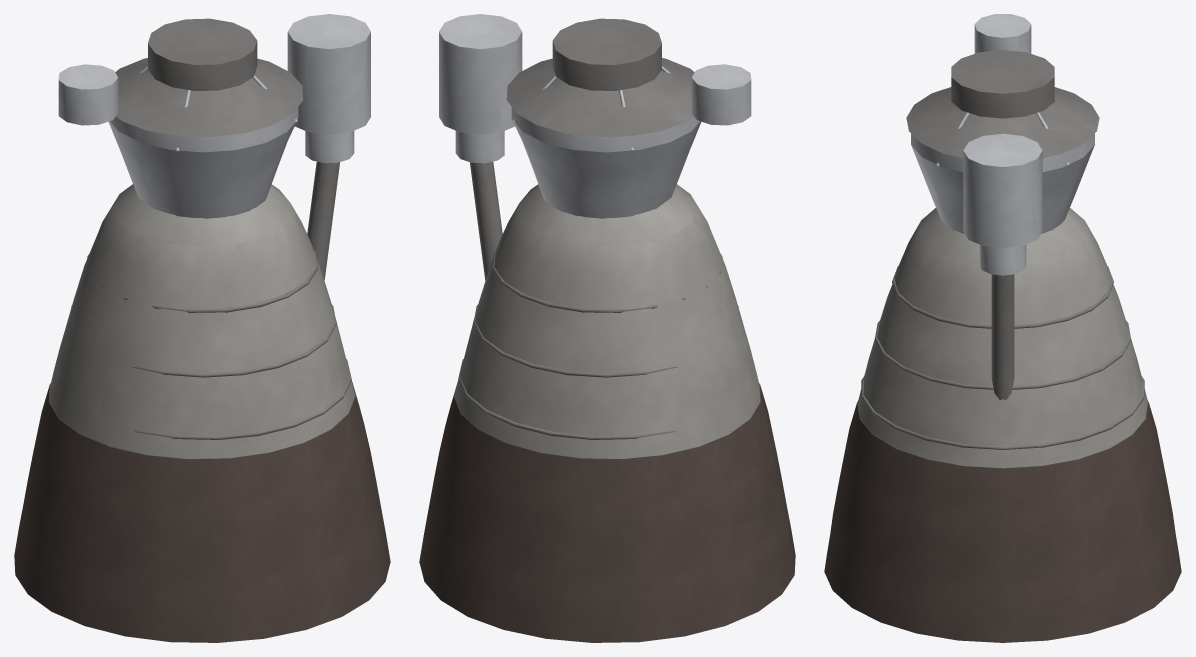
Rendered from prop18_heavy_kerolox.glb.
3 views of the same model, side by side, from view 1: azimuth 30°, elevation 25°; view 2: azimuth 150°, elevation 25°; view 3: azimuth 270°, elevation 25° (orthographic). The views are drawn at different scales.
Visible parts, largest first — view 1: nozzle_ext, bell, chamber, turbopump, injector_dome, mount, heat_exchanger, tube_wall_bands, exhaust_manifold; view 2: nozzle_ext, bell, chamber, turbopump, injector_dome, mount, heat_exchanger, tube_wall_bands, exhaust_manifold; view 3: nozzle_ext, bell, turbopump, injector_dome, mount, chamber, tube_wall_bands, exhaust_manifold, heat_exchanger.
Part boxes in pixels (x1,y1,x2,y2): nozzle_ext: [14, 380, 390, 642]; bell: [49, 184, 355, 458]; chamber: [108, 107, 298, 218]; turbopump: [287, 14, 370, 163]; injector_dome: [115, 58, 303, 136]; mount: [148, 18, 257, 90]; heat_exchanger: [58, 64, 118, 125]; tube_wall_bands: [53, 250, 351, 439]; exhaust_manifold: [307, 161, 339, 280]; nozzle_ext: [419, 380, 795, 642]; bell: [454, 184, 760, 458]; chamber: [511, 107, 701, 218]; turbopump: [439, 14, 522, 163]; injector_dome: [506, 58, 694, 136]; mount: [552, 18, 661, 90]; heat_exchanger: [691, 64, 751, 125]; tube_wall_bands: [458, 250, 756, 439]; exhaust_manifold: [470, 161, 502, 280]; nozzle_ext: [824, 400, 1181, 642]; bell: [858, 208, 1147, 468]; turbopump: [963, 133, 1042, 275]; injector_dome: [906, 87, 1099, 157]; mount: [951, 50, 1054, 118]; chamber: [911, 133, 1094, 233]; tube_wall_bands: [861, 266, 1144, 449]; exhaust_manifold: [991, 274, 1014, 399]; heat_exchanger: [974, 14, 1031, 53].
Size of the model in its own units: 3.79 by 5.8 by 3.79.
4 materials, 4 textured.
